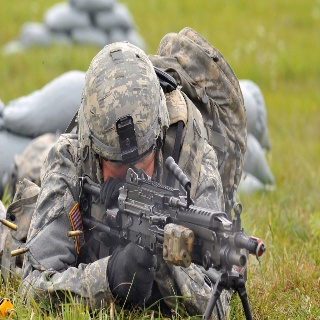rifle: (73, 156, 266, 320)
